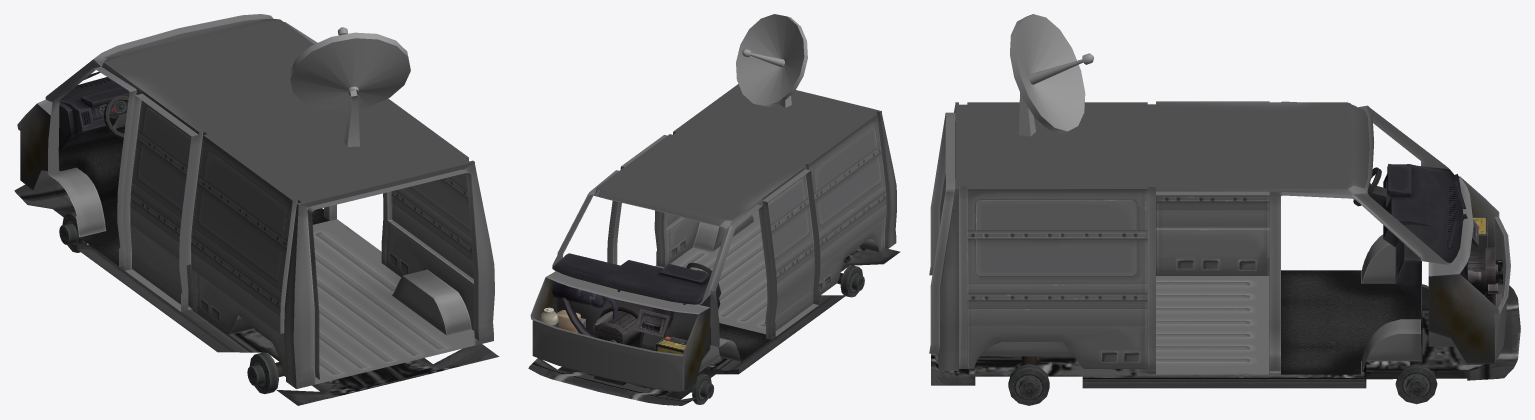
File: Vehicles_trafic_Body_ATC.fbx
3 views of the same model, side by side, from view 1: azimuth 30°, elevation 25°; view 2: azimuth 150°, elevation 25°; view 3: azimuth 270°, elevation 25° (orthographic). The views are drawn at different scales.
Visible parts, largest first — view 1: Interior_mesh; view 2: Interior_mesh; view 3: Interior_mesh.
Part boxes in pixels (x1,y1,x2,y2): Interior_mesh: (14, 14, 499, 405); Interior_mesh: (528, 14, 900, 405); Interior_mesh: (929, 14, 1520, 405).
Size of the model in its own units: 1.93 by 2.92 by 4.55.
